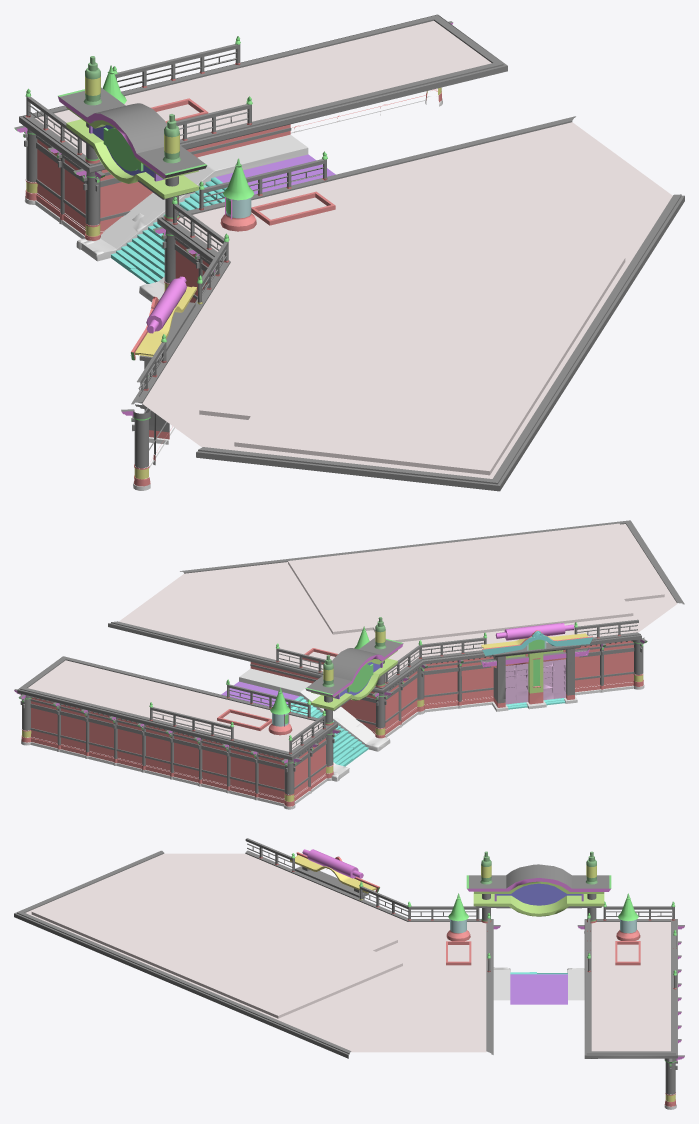
File: SM_ENV_LKNVLD_VRArena_Front_Lod3.gltf
3 renders of one model, top to bottom at view 1: azimuth 30°, elevation 25°; view 2: azimuth 150°, elevation 25°; view 3: azimuth 270°, elevation 25°, orthographic. The views are drawn at different scales.
Visible parts, largest first — view 1: SM_ENV_LKNVLD_VRArena_Front_Lod3; view 2: SM_ENV_LKNVLD_VRArena_Front_Lod3; view 3: SM_ENV_LKNVLD_VRArena_Front_Lod3.
Part boxes in pixels (x1,y1,x2,y2): SM_ENV_LKNVLD_VRArena_Front_Lod3: [14, 14, 684, 491]; SM_ENV_LKNVLD_VRArena_Front_Lod3: [14, 520, 684, 809]; SM_ENV_LKNVLD_VRArena_Front_Lod3: [14, 838, 684, 1109].
Bounding box in the file's own units: 49.16 × 13.62 × 66.23.
